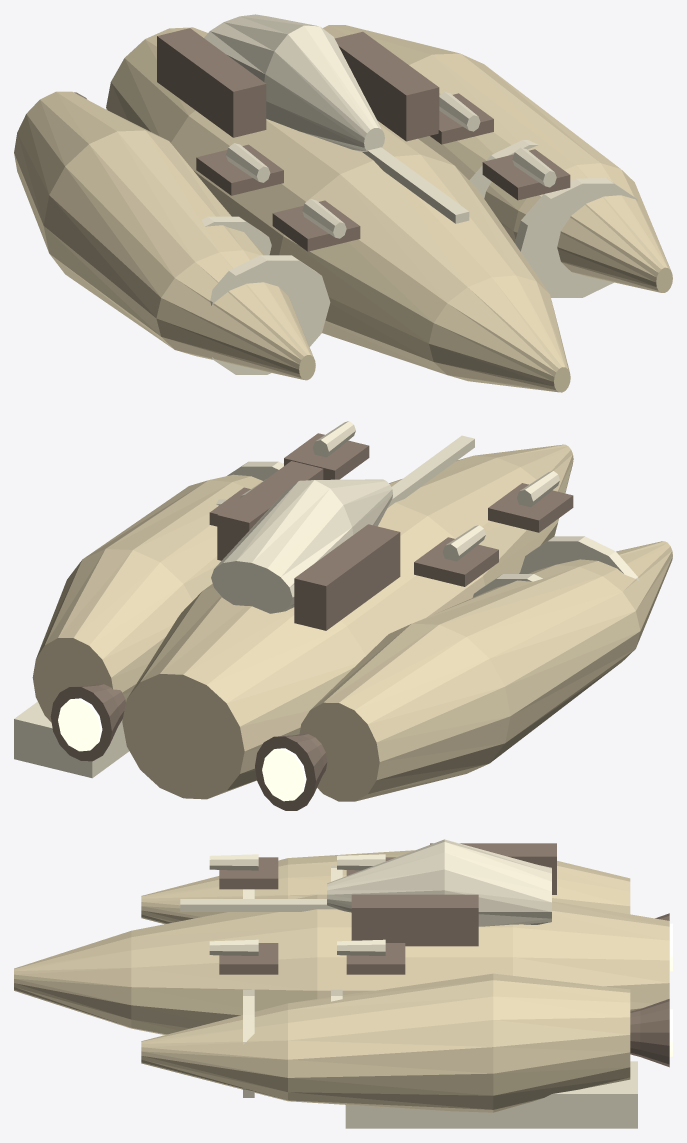
3 views of the same model, one above another, from view 1: azimuth 30°, elevation 25°; view 2: azimuth 150°, elevation 25°; view 3: azimuth 270°, elevation 25° (orthographic). The views are drawn at different scales.
Size of the model in its own units: 8.79 by 4.42 by 12.45.
